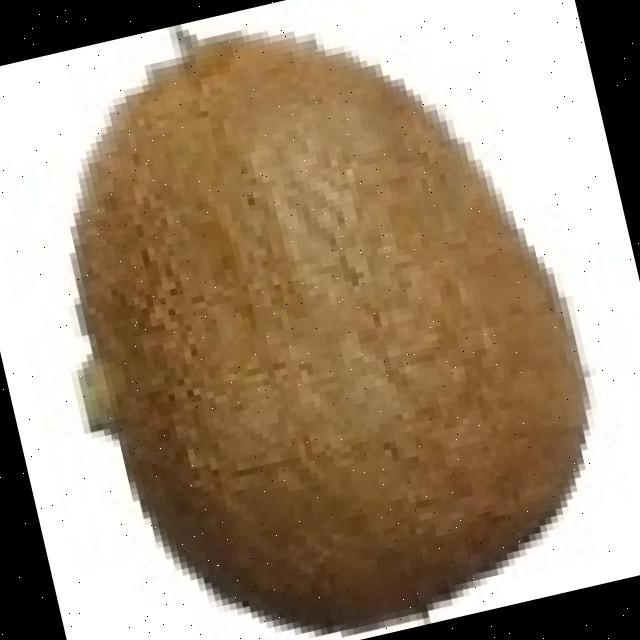kiwi: (86, 27, 592, 617)
